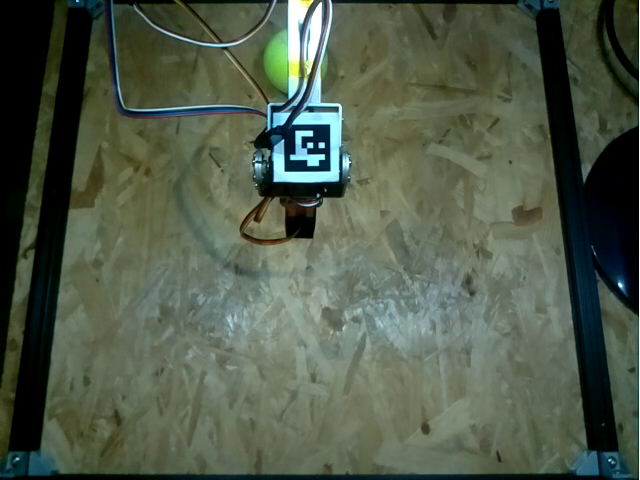tennis_ball: (263, 26, 290, 91)
